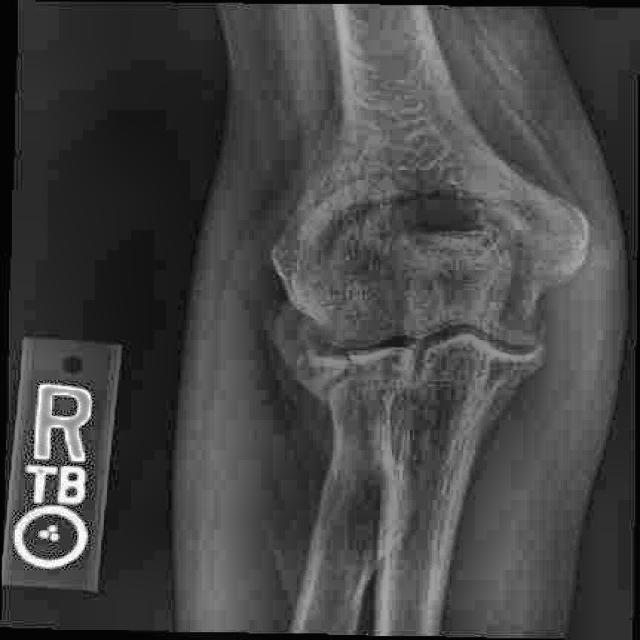elbow positive: (256, 320, 415, 443)
